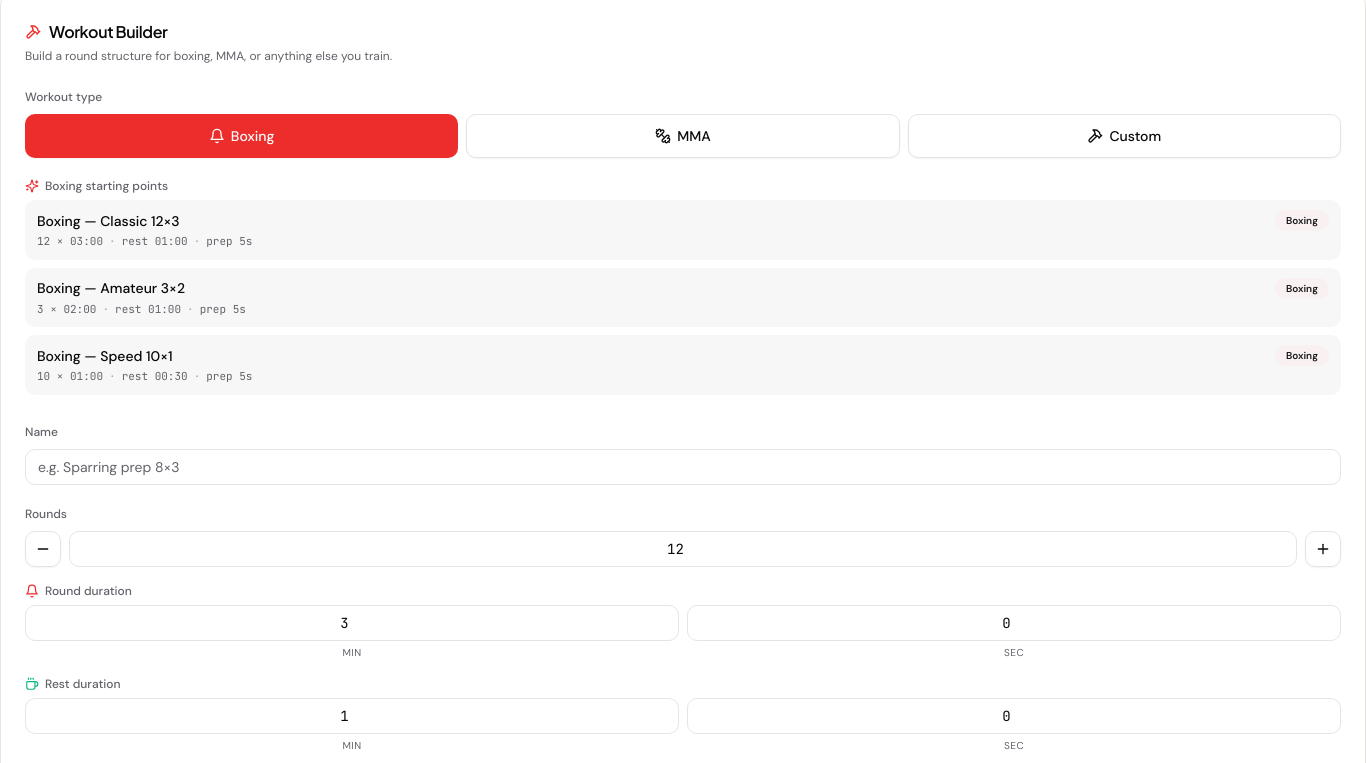
WorkoutBuilder › shows the field message for an out-of-bounds round count
Type "Marathon" into the field labelled "Name". click: [683, 466]
box: x1=25 y1=448 x2=1341 y2=484
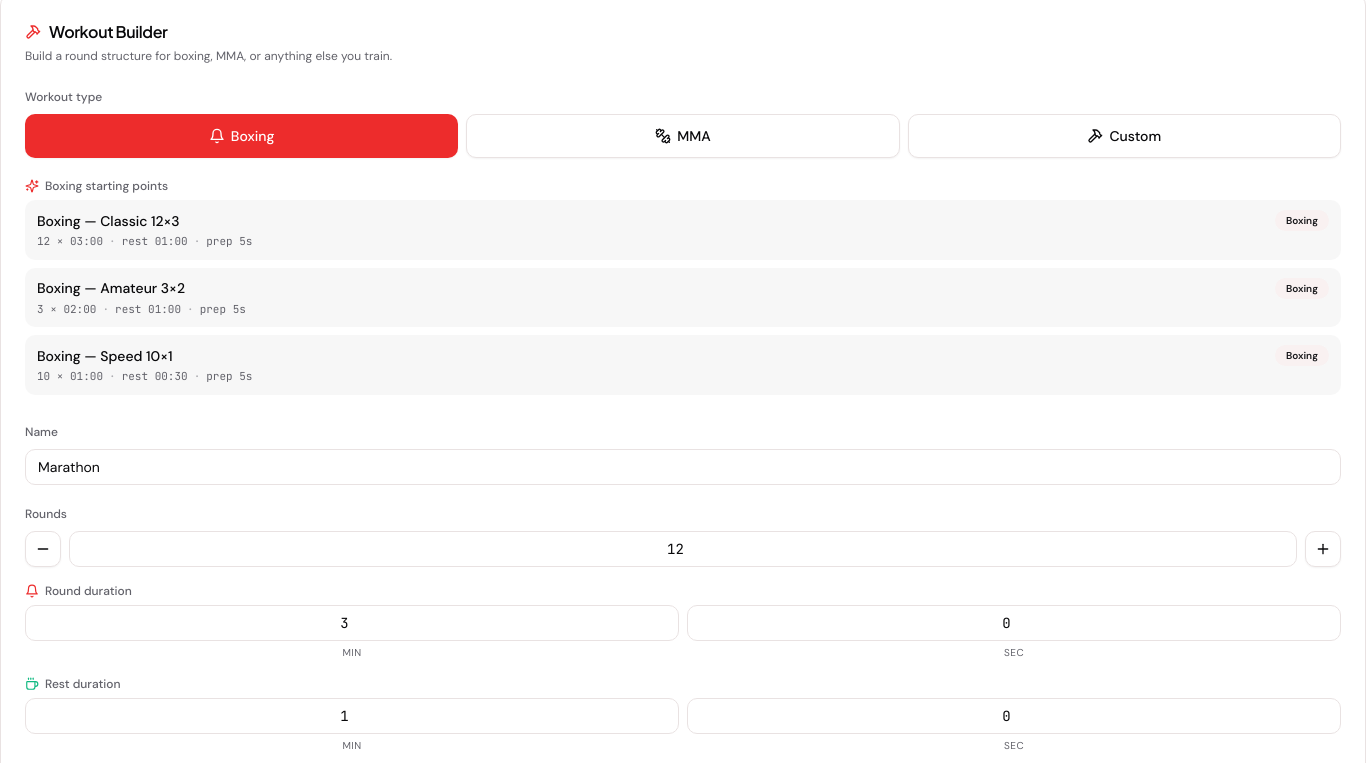
Replace the text in the number field named "Rounds" with "120". click: [683, 548]
box: x1=69 y1=530 x2=1297 y2=566
(page scrolled)
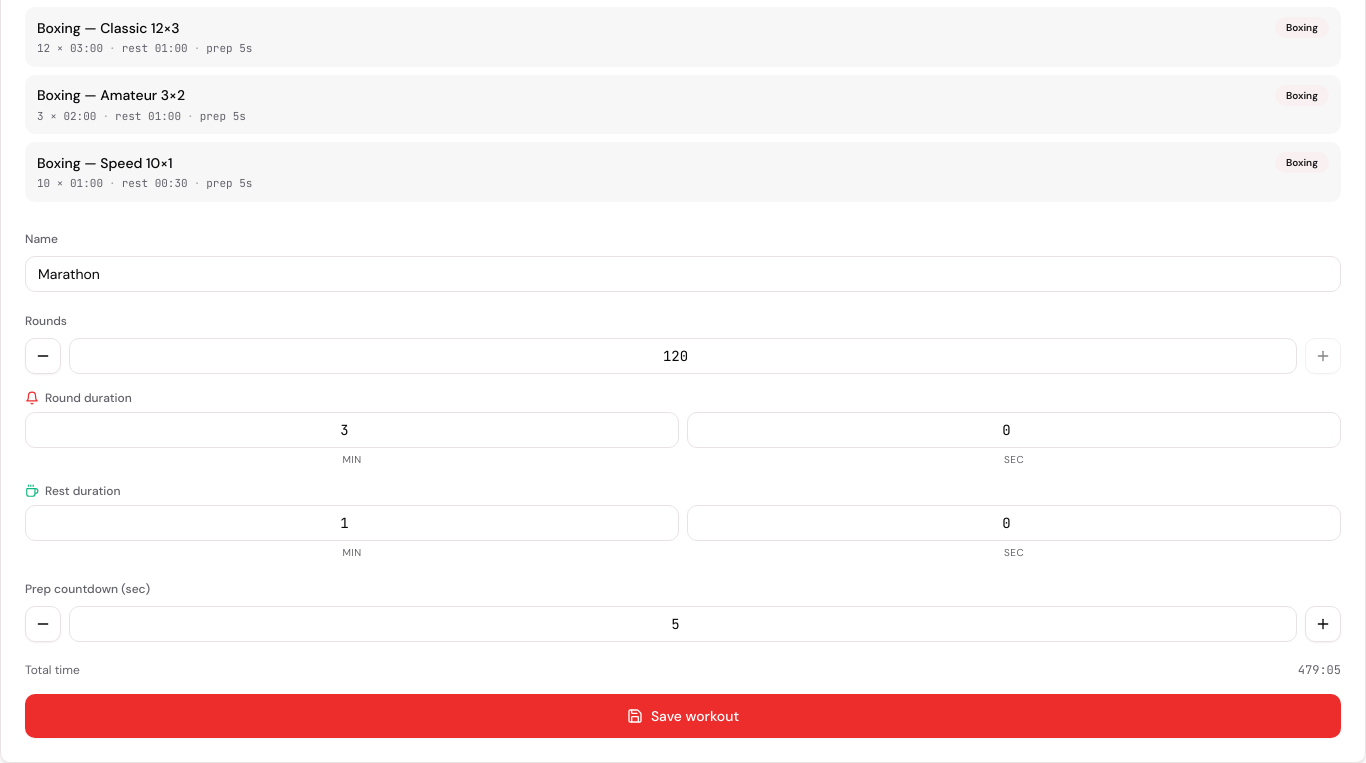
Click the button "Save workout". click: [683, 716]
box: x1=25 y1=694 x2=1341 y2=738
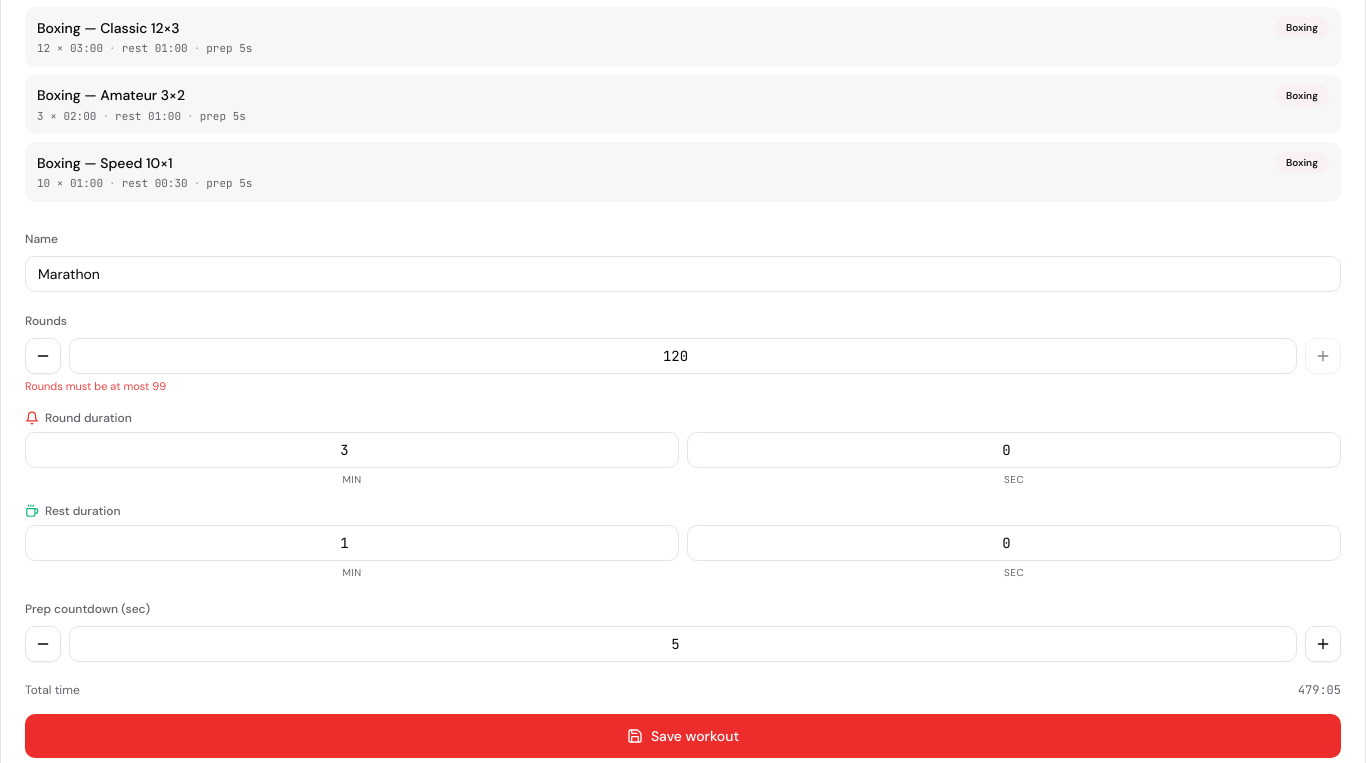
Now the message reads "Rounds must be at most 99", box x1=25 y1=378 x2=166 y2=392
